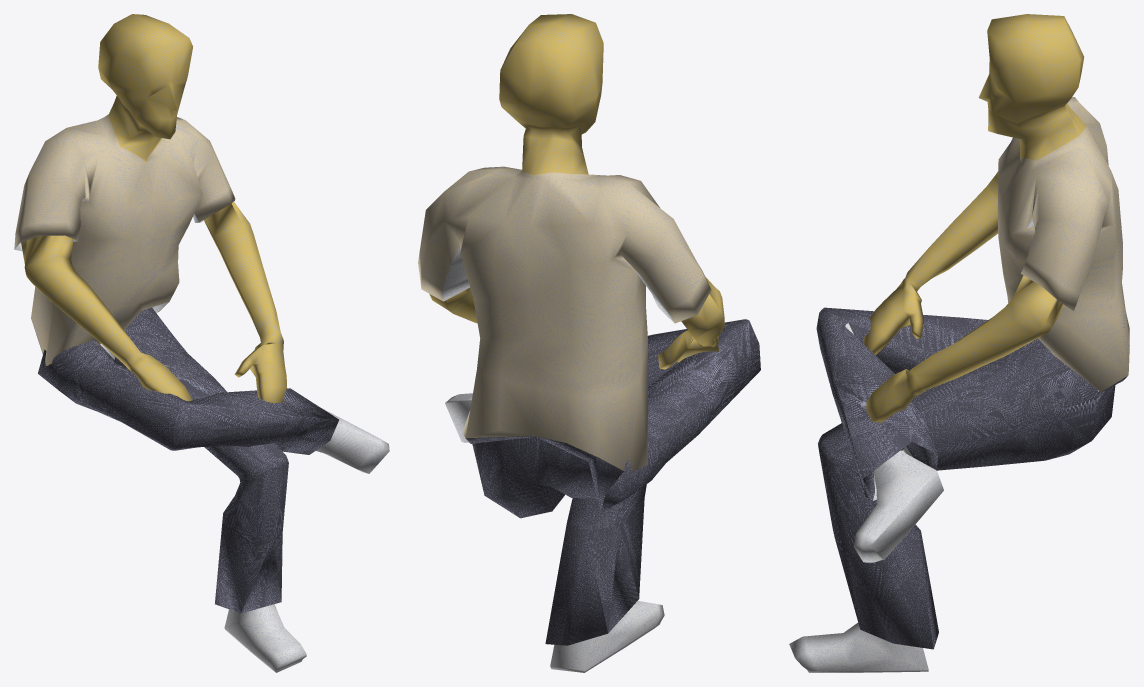
The model's file is man.dae.
The picture shows the model from 3 angles, left to right: view 1: azimuth 30°, elevation 25°; view 2: azimuth 150°, elevation 25°; view 3: azimuth 270°, elevation 25°; orthographic projection. The views are drawn at different scales.
Visible parts, largest first — view 1: SketchUp (×7); view 2: SketchUp (×9); view 3: SketchUp (×7).
Part boxes in pixels (x1,y1,x2,y2): SketchUp (×7): (14, 14, 389, 672); SketchUp (×9): (418, 14, 760, 672); SketchUp (×7): (789, 14, 1129, 672).
Bounding box in the file's own units: 30.76 × 28.35 × 57.41.
